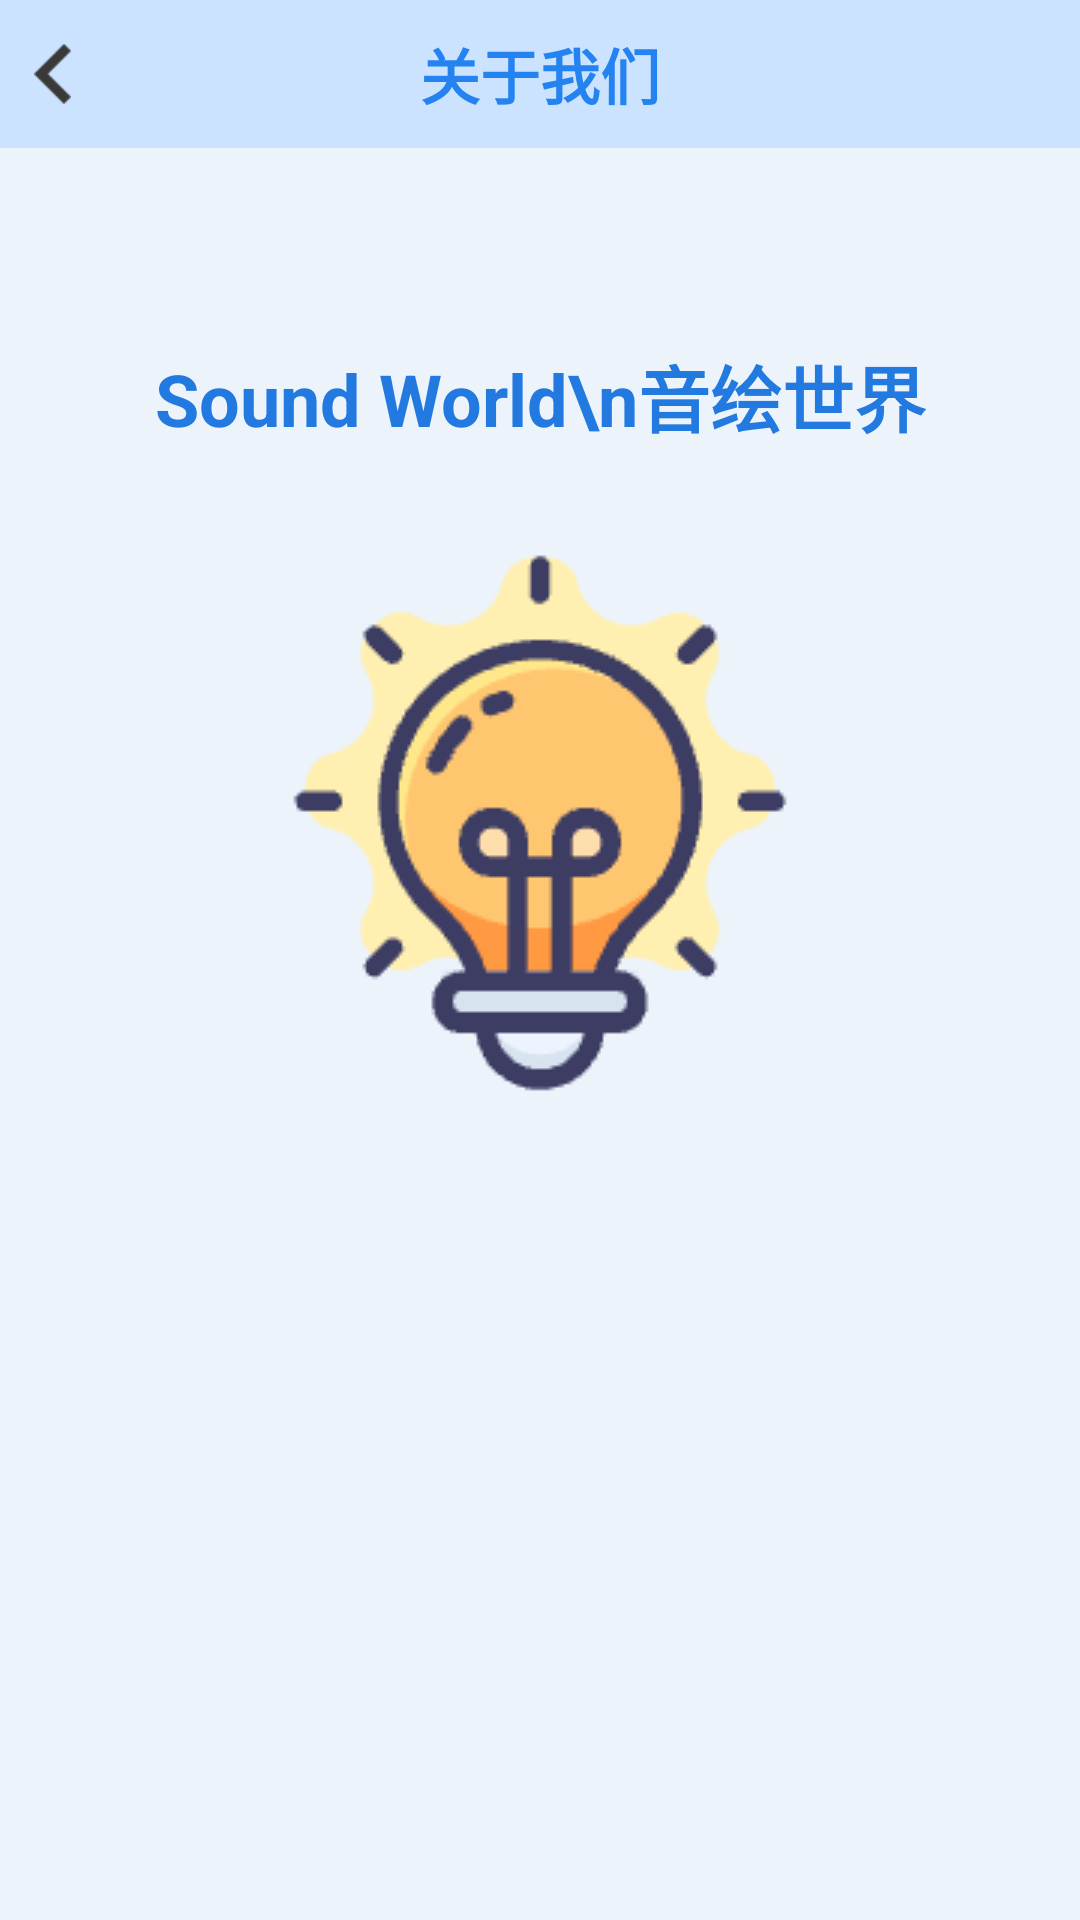

Locate icon controls on the screen. Image size 1080x1920, boxes as bbox=(x1, y1, x2, y2).
backicon: bbox=(34, 44, 71, 104)
